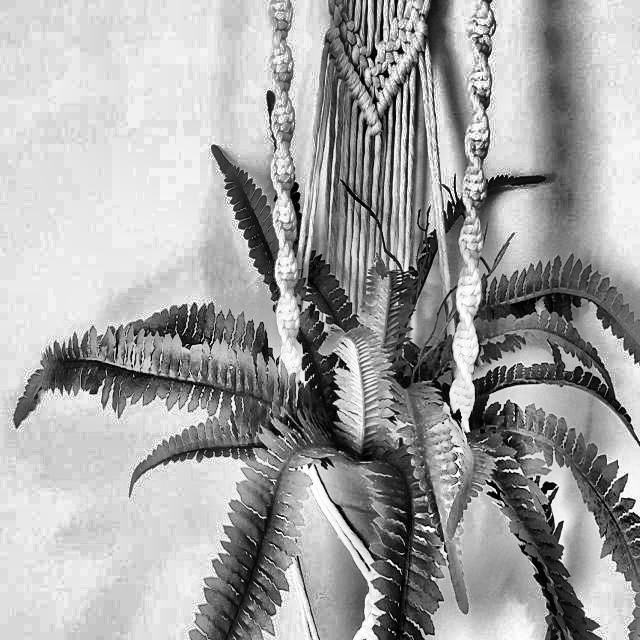plants: (70, 185, 640, 640)
